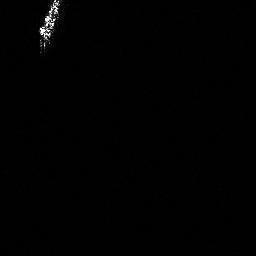ship: (29, 1, 62, 43)
